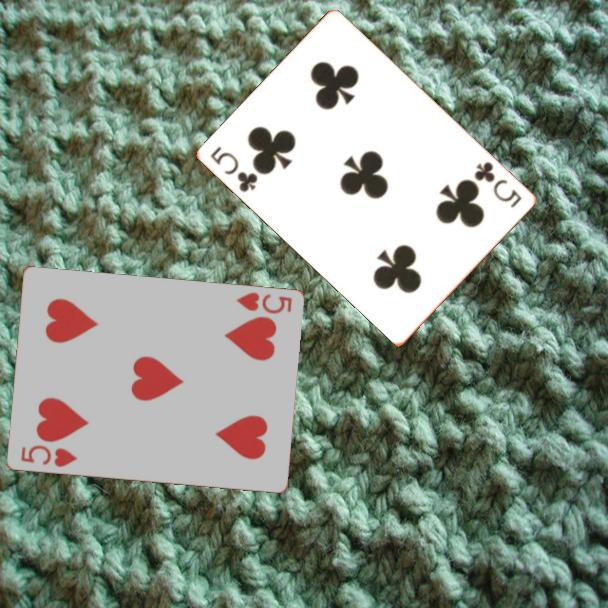c05: (471, 158, 525, 211), (207, 143, 261, 195)
h05: (17, 442, 80, 470), (232, 289, 295, 317)
